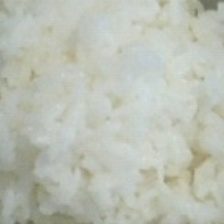rice: (0, 0, 224, 224)
